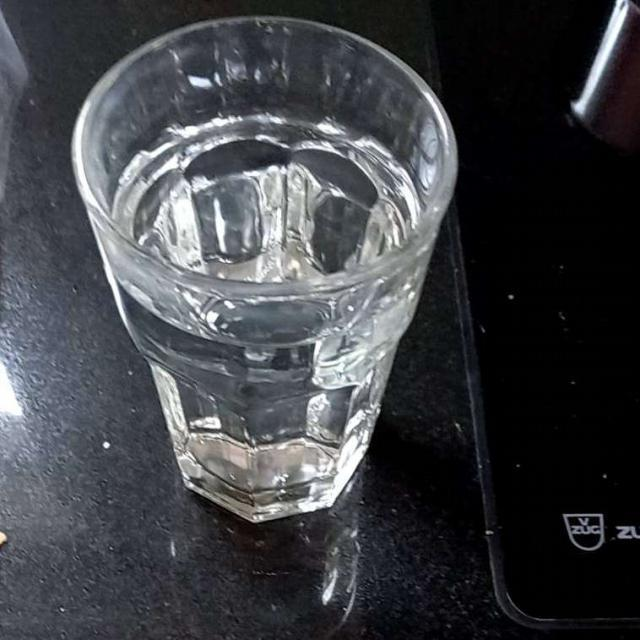water: (104, 122, 403, 497)
